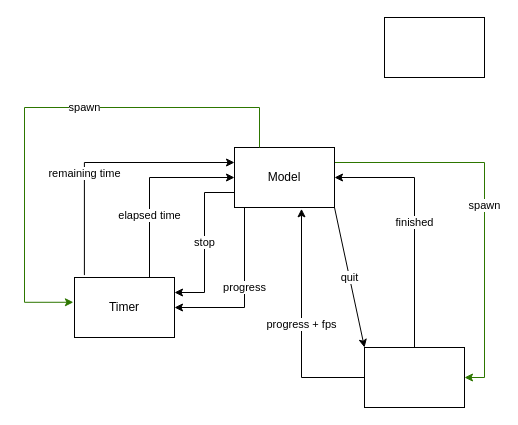
This 518x425 diagram has some shape labels left out. The shapes that lost their labels are listed below. From the top down, each one's centre as x and y in pixels, then its label:
(434,47): UI
(414,377): ffmpeg
